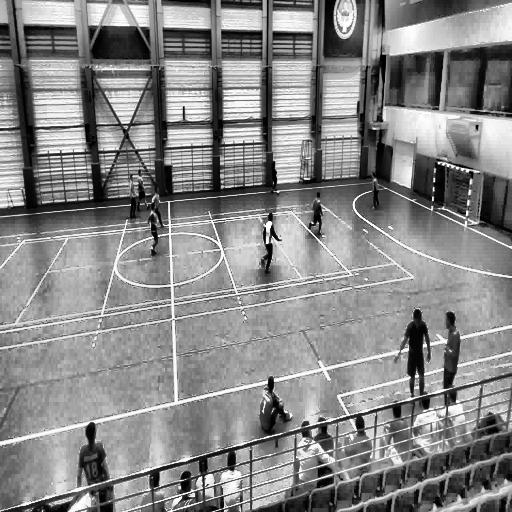player: (396, 306, 429, 401), (260, 376, 291, 448), (442, 311, 460, 399), (262, 212, 280, 273), (308, 190, 323, 234), (149, 204, 161, 255), (129, 174, 138, 218), (270, 158, 279, 193), (371, 172, 379, 210)
